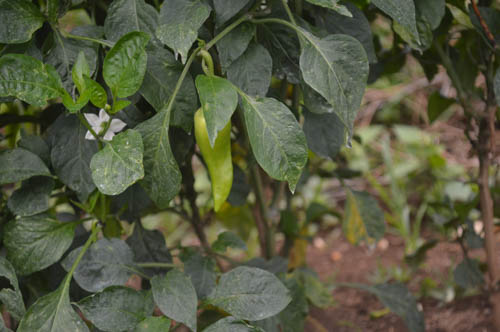ChiliPepper: (192, 107, 233, 214)
